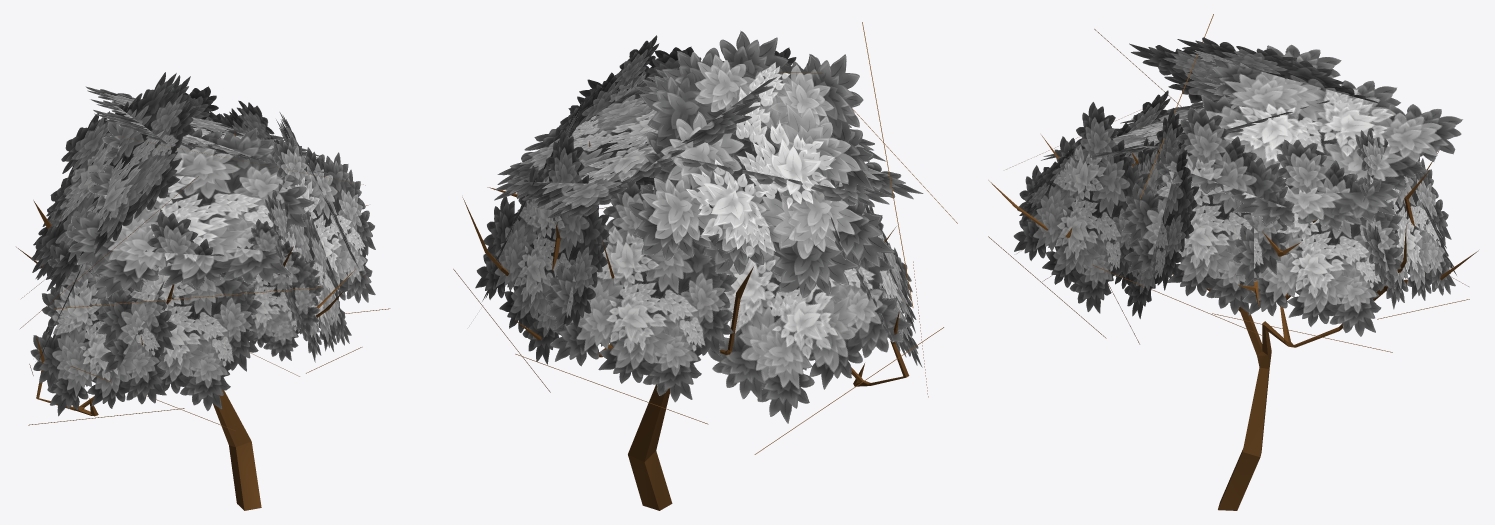
Rendered from TreeOptimized2.fbx.
3 views of the same model, side by side, from view 1: azimuth 30°, elevation 25°; view 2: azimuth 150°, elevation 25°; view 3: azimuth 270°, elevation 25° (orthographic). The views are drawn at different scales.
Parts seen in each view (by area): view 1: Cube.002; view 2: Cube.002; view 3: Cube.002.
Boxes of the visible parts, bbox=[...] form: Cube.002: bbox=[16, 72, 390, 510]; Cube.002: bbox=[453, 22, 957, 510]; Cube.002: bbox=[988, 14, 1478, 510].
Bounding box in the file's own units: 373 × 440 × 417.
